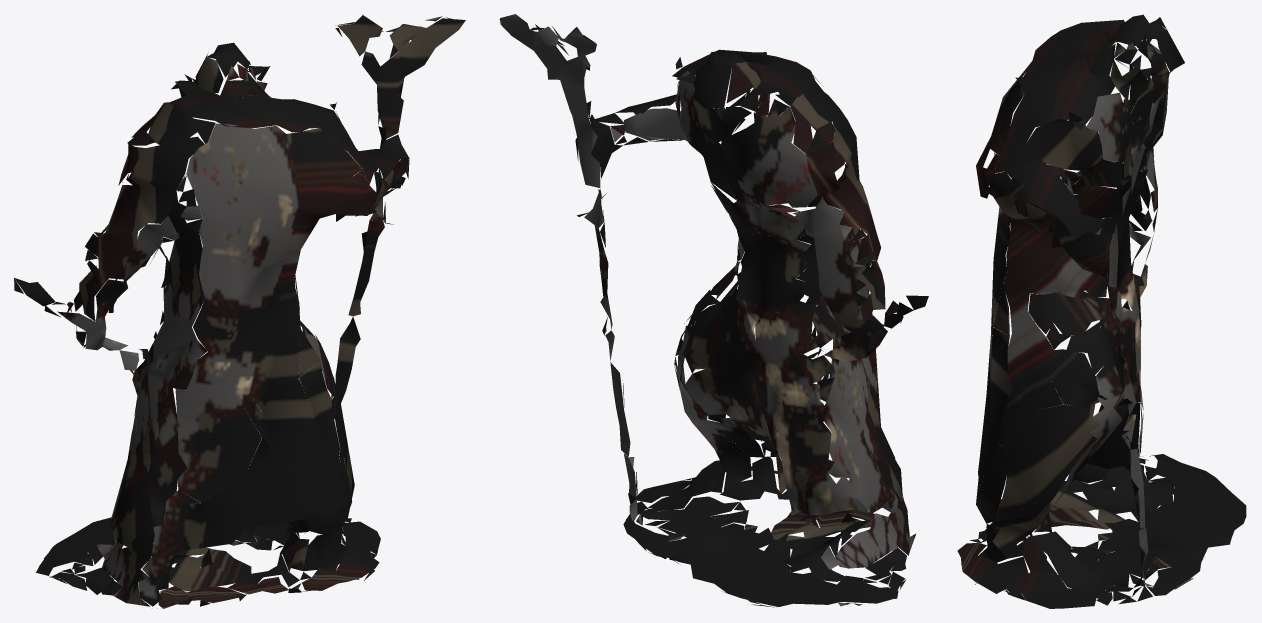
3 views of the same model, side by side, from view 1: azimuth 30°, elevation 25°; view 2: azimuth 150°, elevation 25°; view 3: azimuth 270°, elevation 25° (orthographic). The views are drawn at different scales.
Parts seen in each view (by area): view 1: body.002; view 2: body.002; view 3: body.002.
Part boxes in pixels (bbox=[...]): body.002: bbox=[14, 14, 465, 608]; body.002: bbox=[499, 14, 928, 607]; body.002: bbox=[957, 14, 1246, 608].
Size of the model in its own units: 1.87 by 1.99 by 0.979.
1 material, 1 textured.
